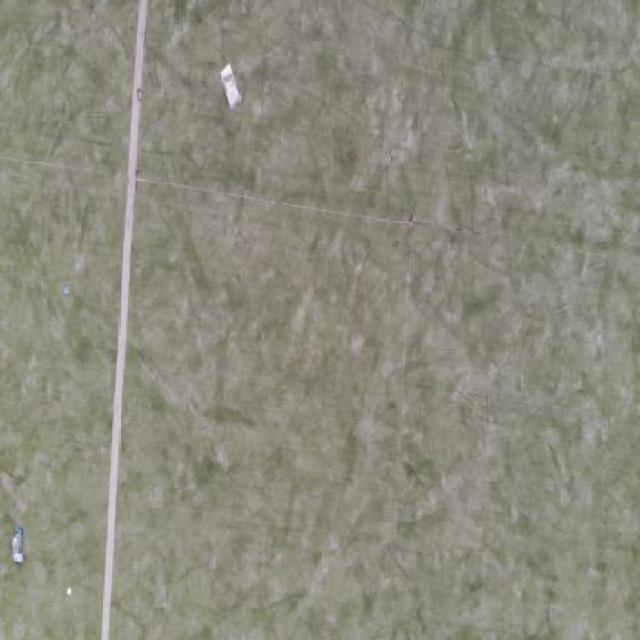Garbage: (219, 62, 242, 111), (11, 527, 24, 564), (68, 586, 71, 596), (64, 287, 68, 294)
